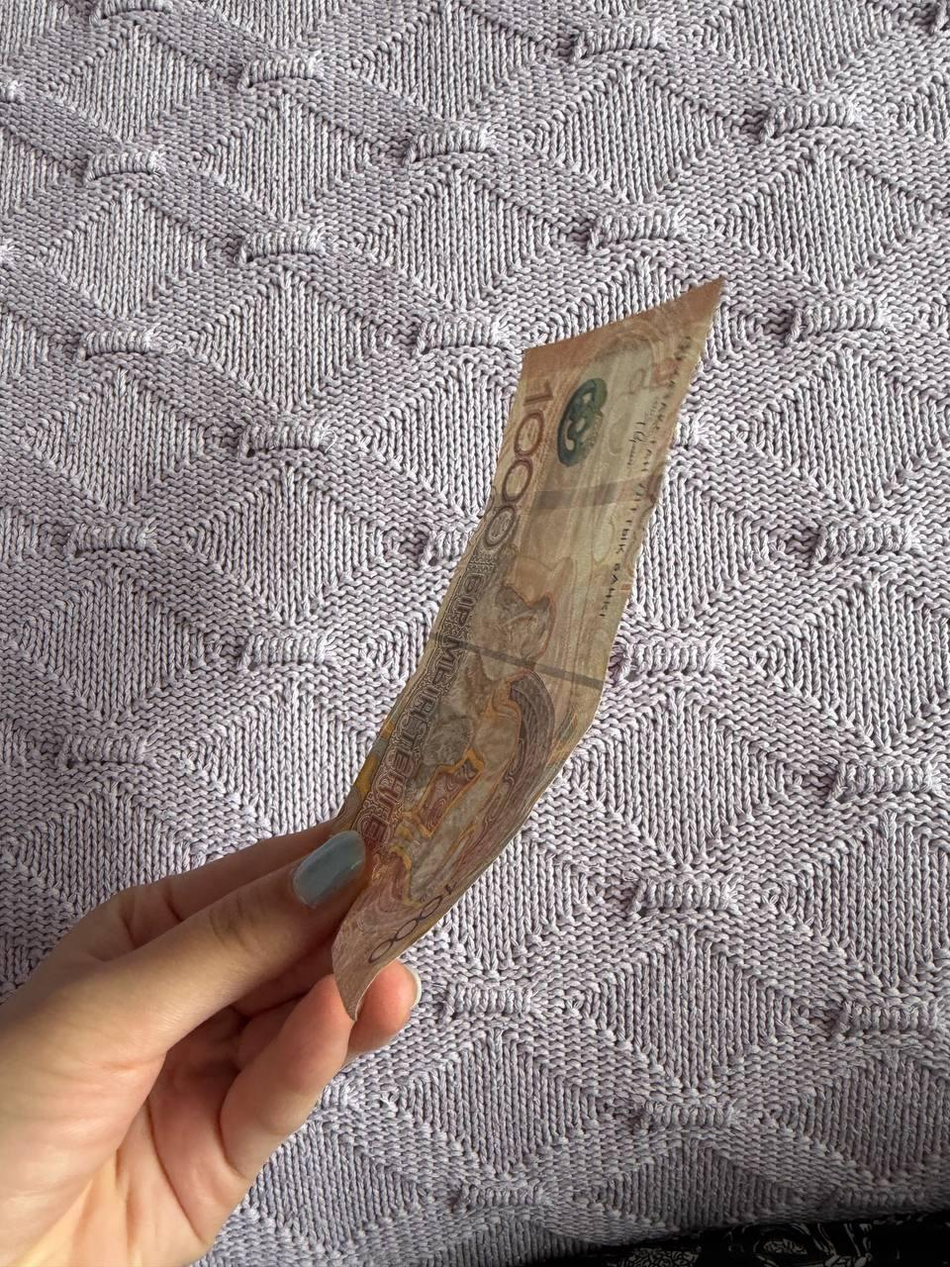cash_stack: (285, 275, 756, 1026)
